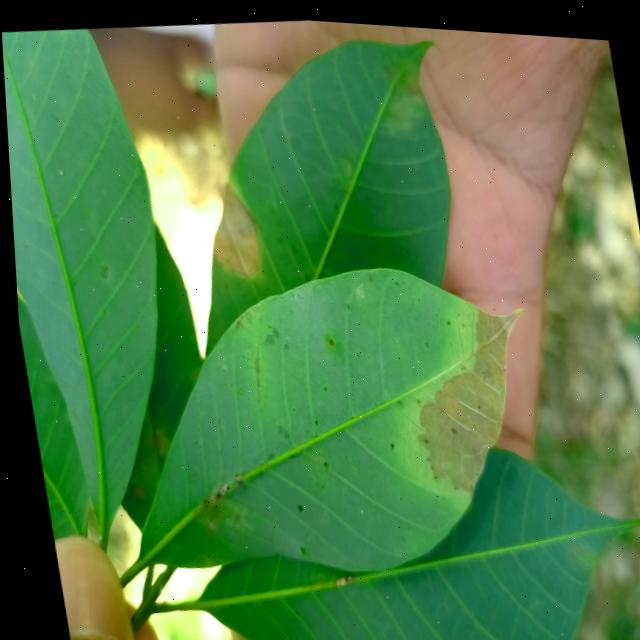Colletotrichum: (323, 335, 329, 341), (383, 438, 388, 443)
Leaf-Blight: (392, 292, 550, 501), (196, 174, 261, 278)
